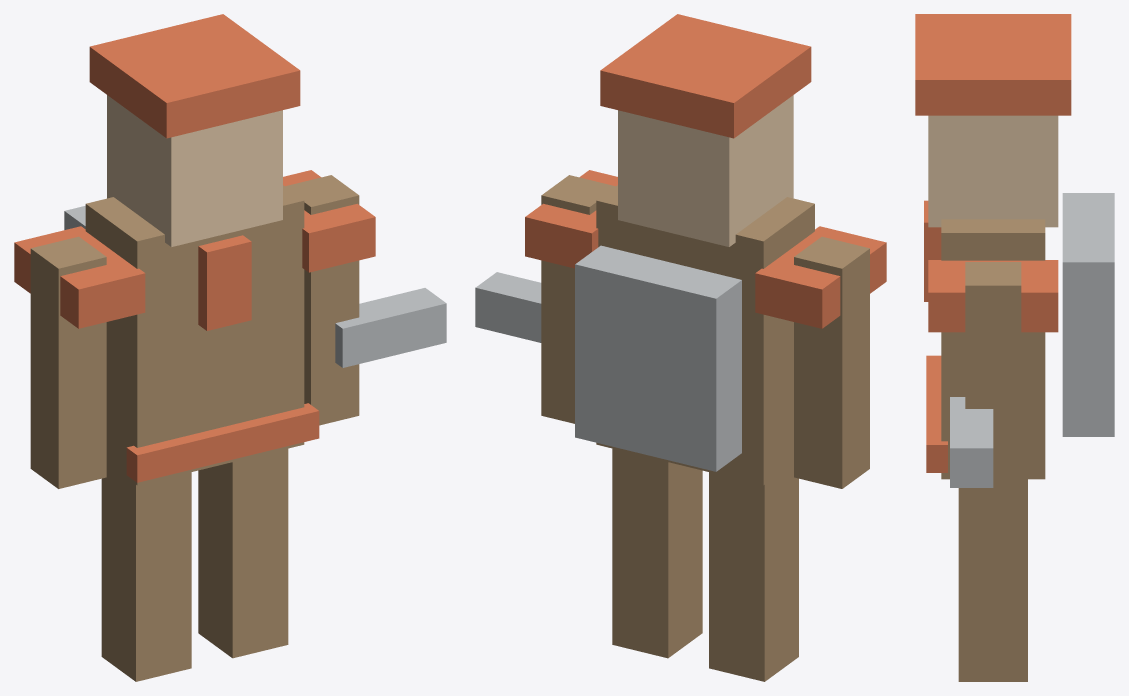
Rendered from 11_orin_gantryn_specialist_at_suntrack.glb.
3 views of the same model, side by side, from view 1: azimuth 30°, elevation 25°; view 2: azimuth 150°, elevation 25°; view 3: azimuth 270°, elevation 25° (orthographic).
Visible parts, largest first — view 1: Orin Gantryn, Specialist at Suntrack; view 2: Orin Gantryn, Specialist at Suntrack; view 3: Orin Gantryn, Specialist at Suntrack.
Boxes of the visible parts, box(x1,y1,x2,y2) form: Orin Gantryn, Specialist at Suntrack: box(14, 14, 446, 681); Orin Gantryn, Specialist at Suntrack: box(475, 14, 886, 681); Orin Gantryn, Specialist at Suntrack: box(915, 14, 1114, 681).
Bounding box in the file's own units: 0.9871 × 1.47 × 0.443.
